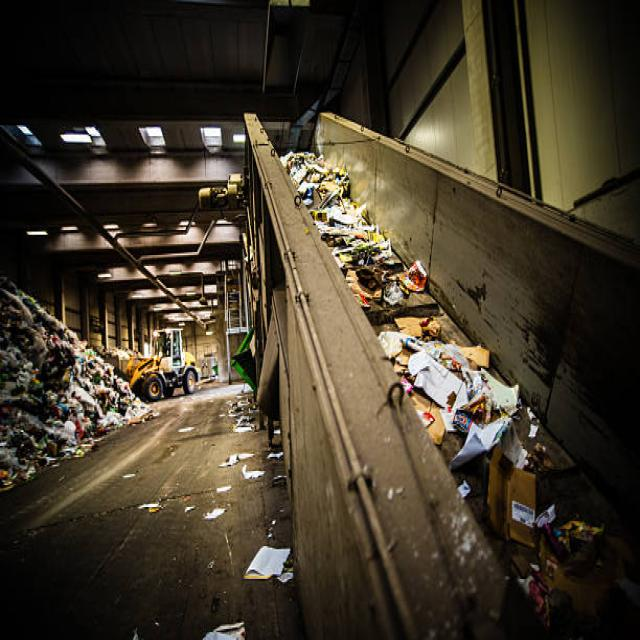trash: (295, 147, 583, 562), (1, 282, 115, 439)
